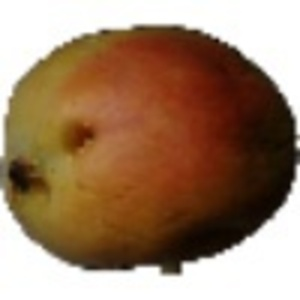mamão: (6, 18, 294, 264)
